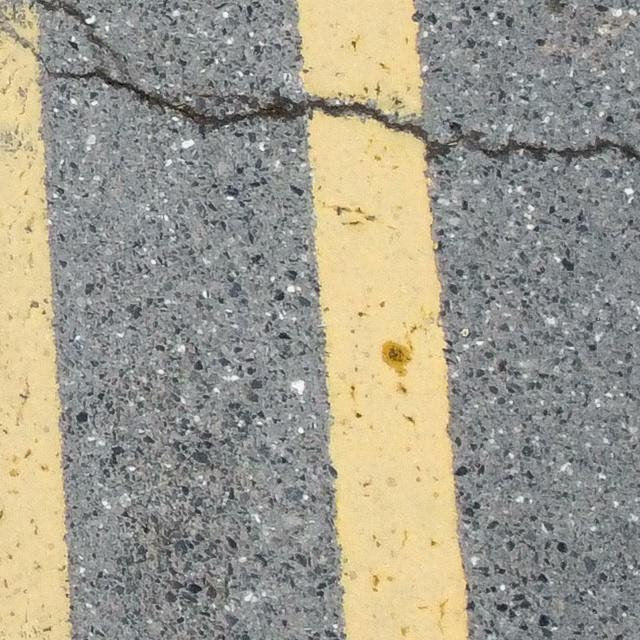TransverseCrack: (1, 3, 640, 169)
